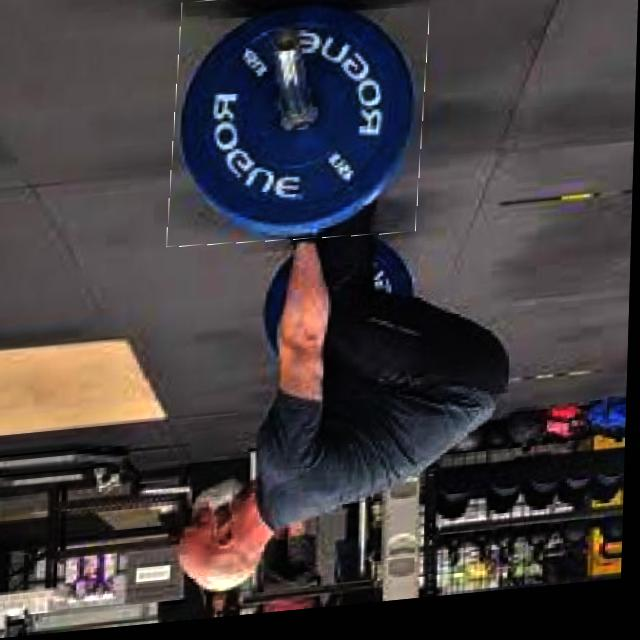barbell: (171, 1, 429, 258)
